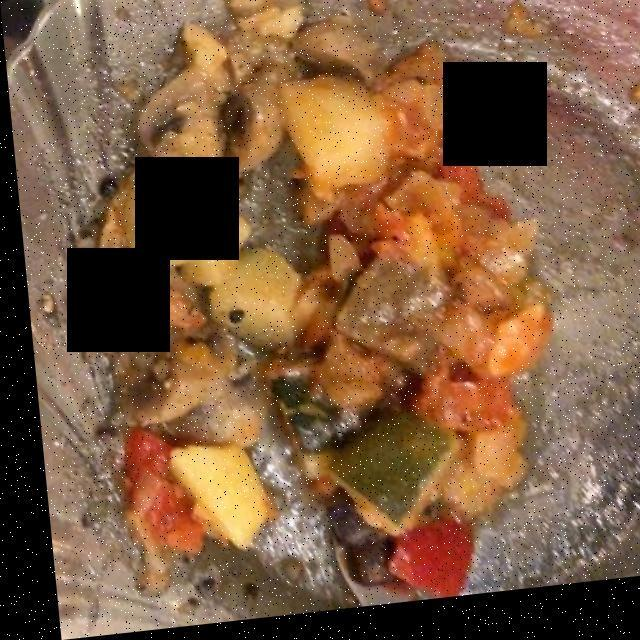mushrooms: (78, 25, 371, 458)
ratatouille: (248, 70, 561, 600)
